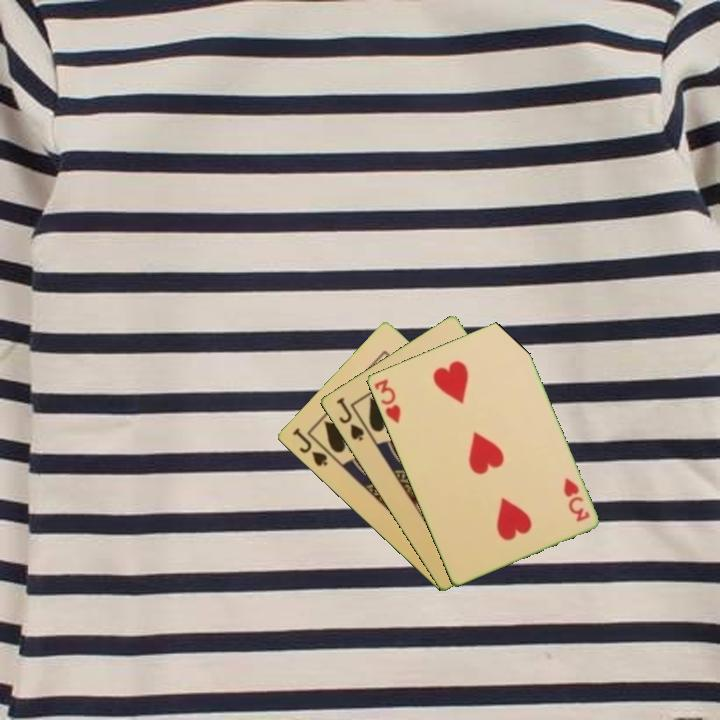3h: (370, 375, 403, 426), (559, 474, 592, 525)
Js: (289, 424, 330, 469), (332, 394, 367, 444)
